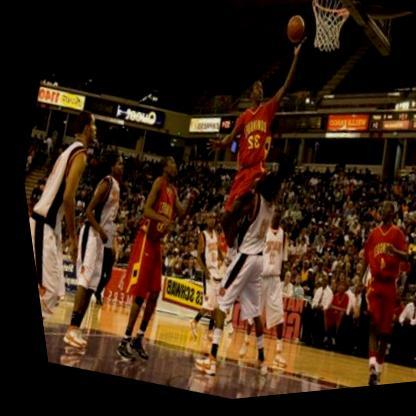basketball: (280, 15, 310, 51)
rim: (307, 0, 350, 26)
